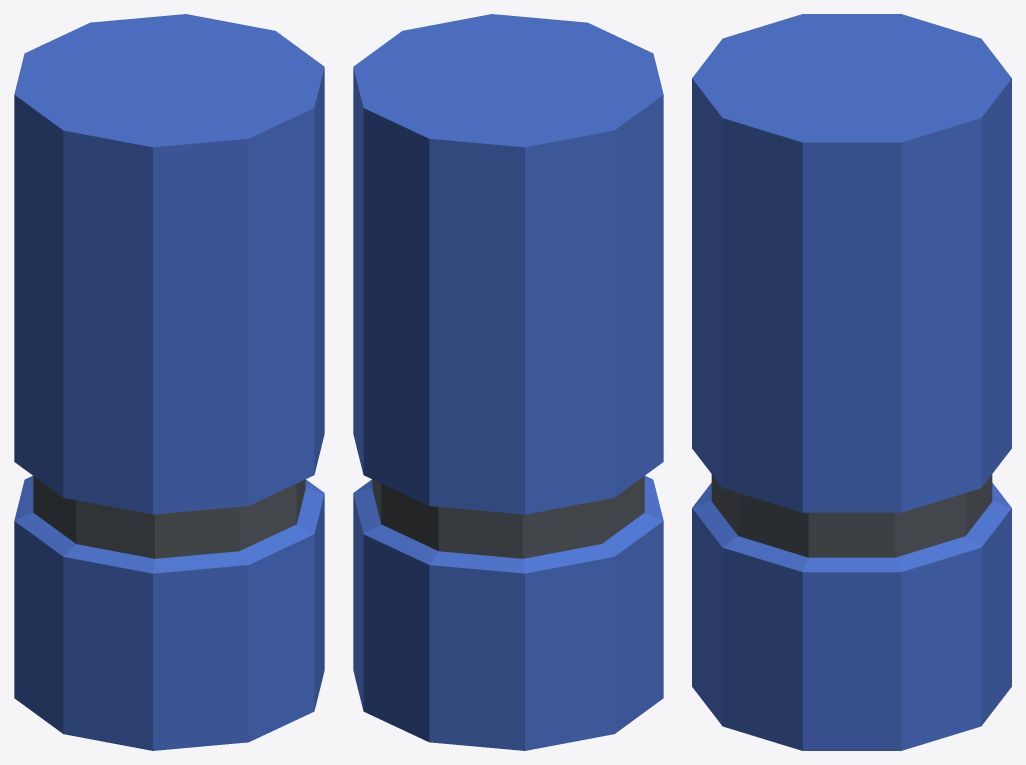
Rendered from Dropship_01_Piping_02_Blue.fbx.
3 views of the same model, side by side, from view 1: azimuth 30°, elevation 25°; view 2: azimuth 150°, elevation 25°; view 3: azimuth 270°, elevation 25° (orthographic).
Parts seen in each view (by area): view 1: Dropship_01_Piping_02_Blue; view 2: Dropship_01_Piping_02_Blue; view 3: Dropship_01_Piping_02_Blue.
Part boxes in pixels (x1,y1,x2,y2): Dropship_01_Piping_02_Blue: (14, 14, 324, 750); Dropship_01_Piping_02_Blue: (353, 14, 663, 750); Dropship_01_Piping_02_Blue: (692, 14, 1011, 750).
Size of the model in its own units: 52.29 by 115 by 54.98.
Materials: 1 (1 with a texture image).
